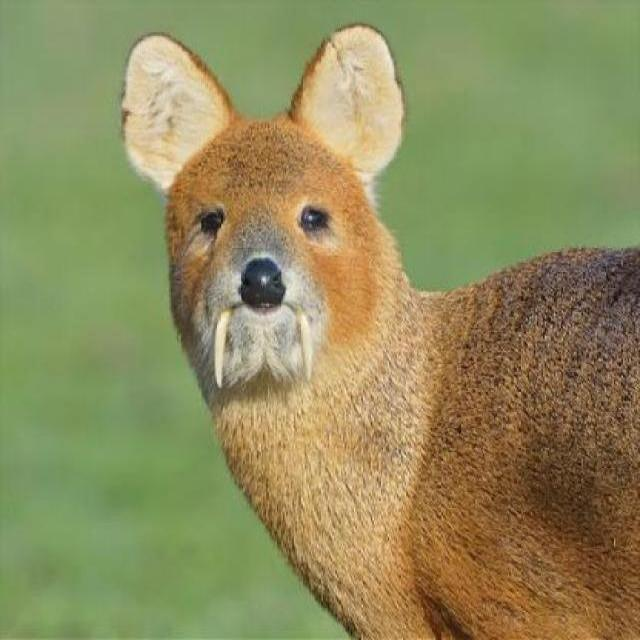deer: (108, 10, 640, 639)
